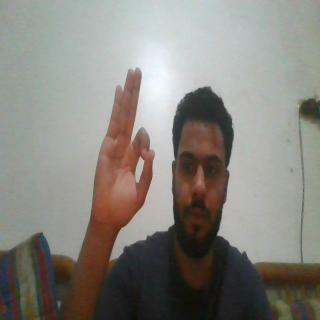Space: (86, 64, 155, 242)
